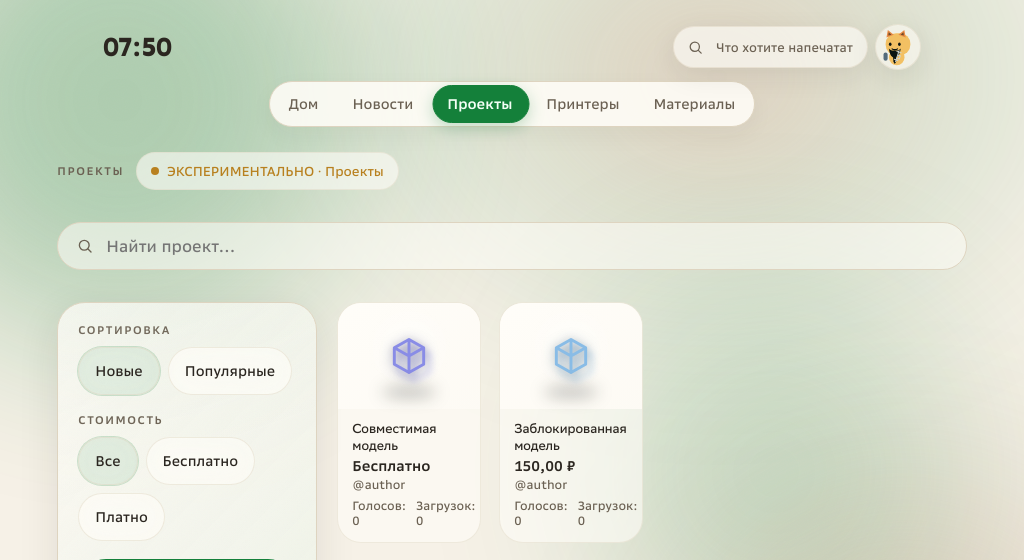
Scenario: MarketplaceScreen — фильтр «совместимо с моим парком» › фильтрует каталог по платным моделям и показывает цену
expect the text "Совместимая модель" is shown: met, box x1=352 y1=421 x2=436 y2=453
Click the button "Платно" at (122, 517), box x1=78 y1=493 x2=165 y2=541
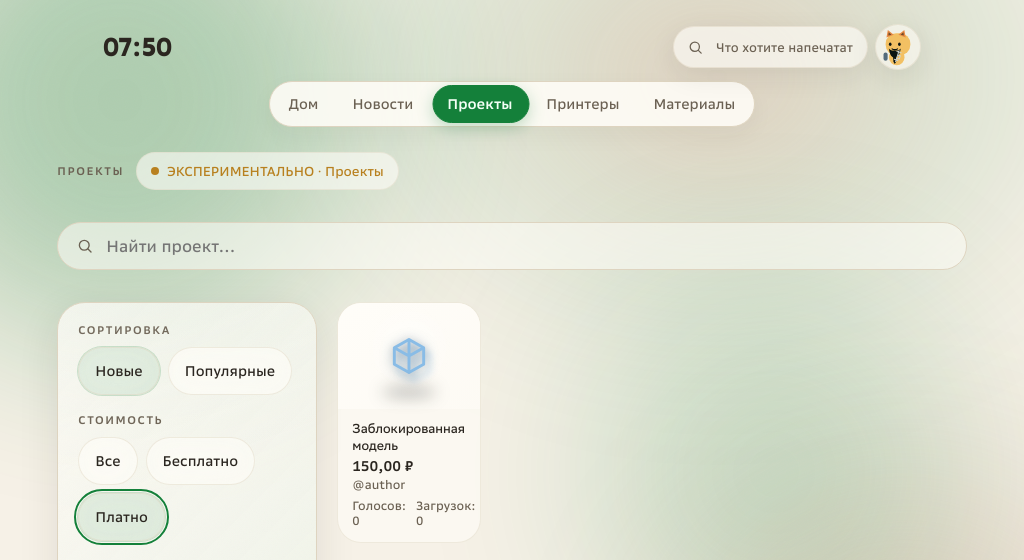
expect the text "Заблокированная модель" is shown: met, box x1=352 y1=421 x2=466 y2=455
expect the button "Совместимая модель" is gone: met
